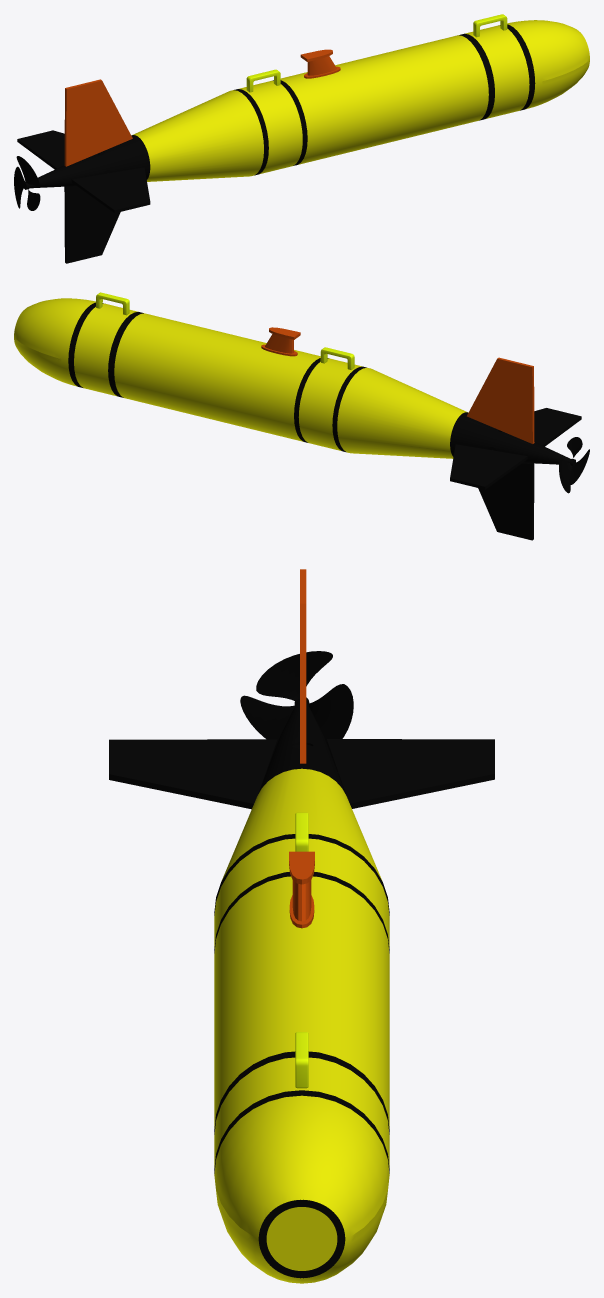
Rendered from AUV.fbx.
The picture shows the model from 3 angles, top to bottom: view 1: azimuth 30°, elevation 25°; view 2: azimuth 150°, elevation 25°; view 3: azimuth 270°, elevation 25°; orthographic projection. The views are drawn at different scales.
Visible parts, largest first — view 1: Myring Body, Rudders, Stern Planes, Propeller; view 2: Myring Body, Rudders, Stern Planes, Propeller; view 3: Myring Body, Stern Planes, Propeller, Rudders.
Boxes of the visible parts, x1,y1,x2,y2 form: Myring Body: (29,14,589,188); Rudders: (64,79,132,263); Stern Planes: (17,130,150,212); Propeller: (14,156,40,210); Myring Body: (14,292,570,464); Rudders: (467,357,534,540); Stern Planes: (450,408,581,489); Propeller: (559,437,589,493); Myring Body: (214,700,389,1283); Stern Planes: (109,739,494,809); Propeller: (240,651,353,742); Rudders: (300,569,306,763).
Size of the model in its own units: 1.38 by 0.4165 by 0.4206.
